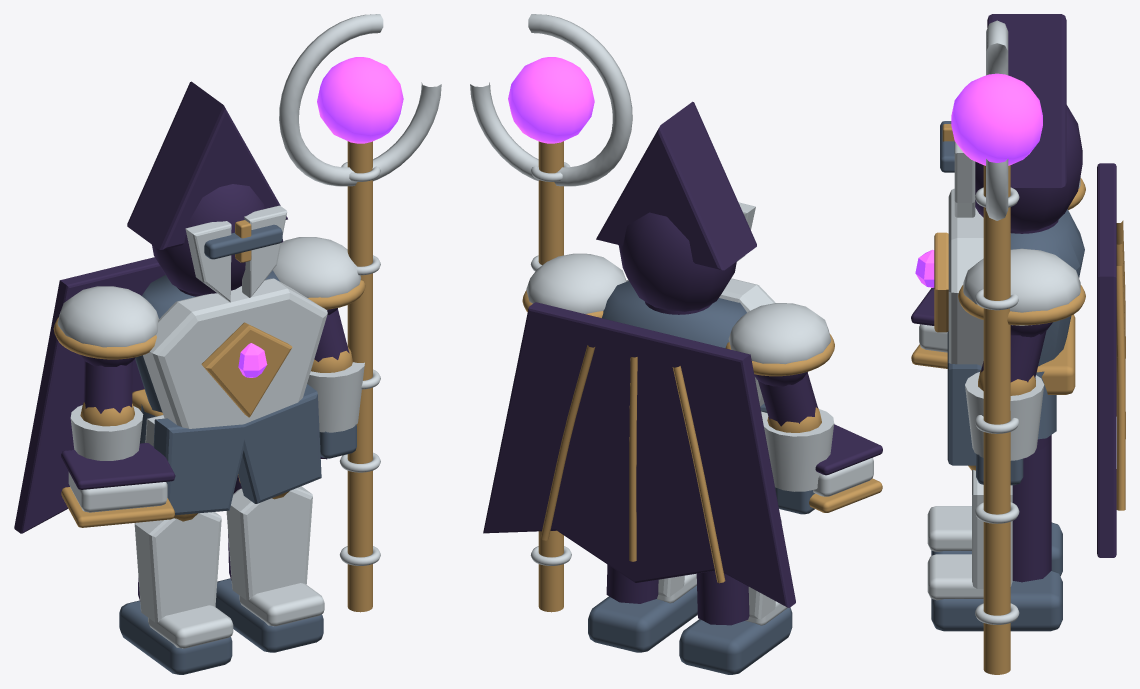
Rendered from moonsteel-convergence-crescent-seer-9f02bd8a__18169.glb.
3 views of the same model, side by side, from view 1: azimuth 30°, elevation 25°; view 2: azimuth 150°, elevation 25°; view 3: azimuth 270°, elevation 25° (orthographic). The views are drawn at different scales.
Visible parts, largest first — view 1: crescent-seer; view 2: crescent-seer; view 3: crescent-seer.
Boxes of the visible parts, x1,y1,x2,y2 form: crescent-seer: (14,14,441,674); crescent-seer: (470,14,882,674); crescent-seer: (911,14,1125,674).
Bounding box in the file's own units: 1.95 × 2.84 × 0.8657.
